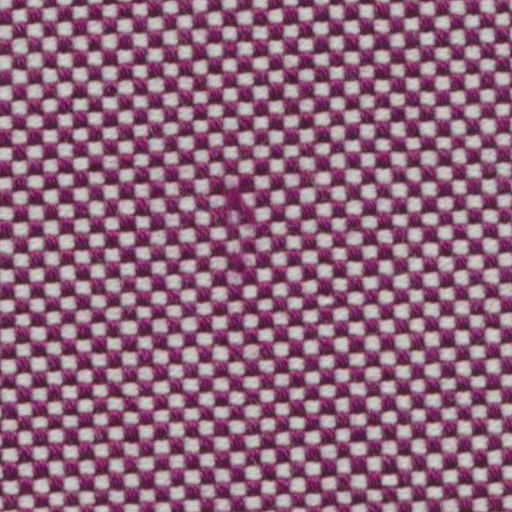DuanSha: (208, 171, 272, 246)
